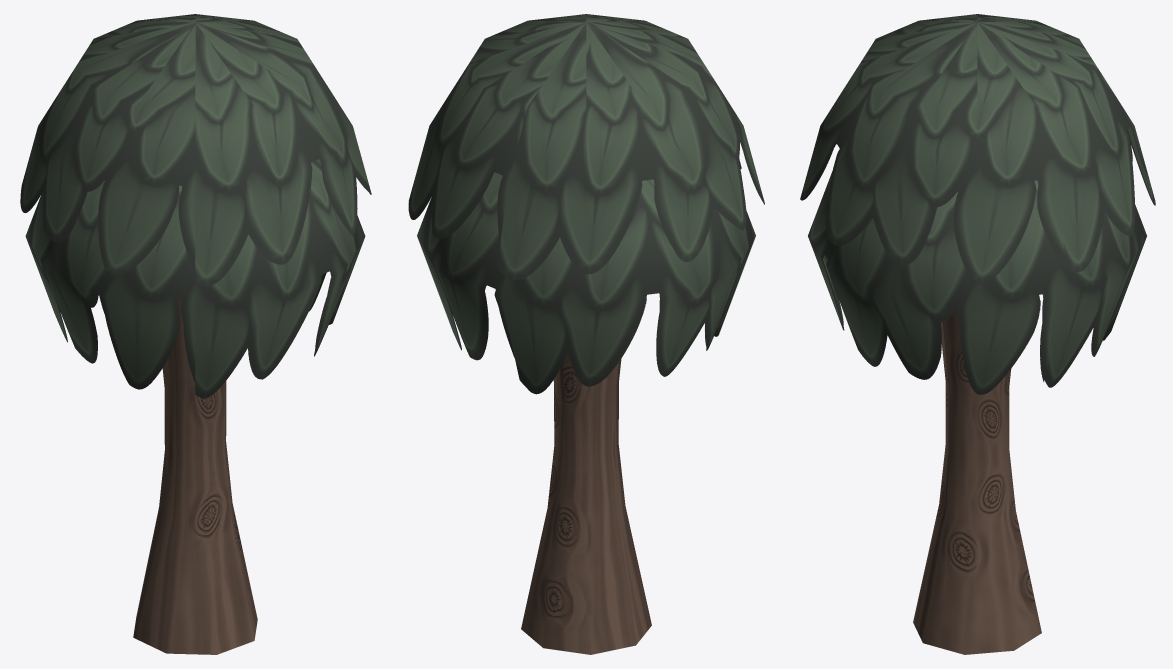
Rendered from tree_01.FBX.
3 views of the same model, side by side, from view 1: azimuth 30°, elevation 25°; view 2: azimuth 150°, elevation 25°; view 3: azimuth 270°, elevation 25° (orthographic).
Visible parts, largest first — view 1: simple_tree; view 2: simple_tree; view 3: simple_tree.
Boxes of the visible parts, x1,y1,x2,y2 form: simple_tree: (20,14,371,654); simple_tree: (408,14,764,654); simple_tree: (800,14,1155,654).
Bounding box in the file's own units: 41.89 × 77.21 × 41.89.
Materials: 2 (2 with a texture image).
